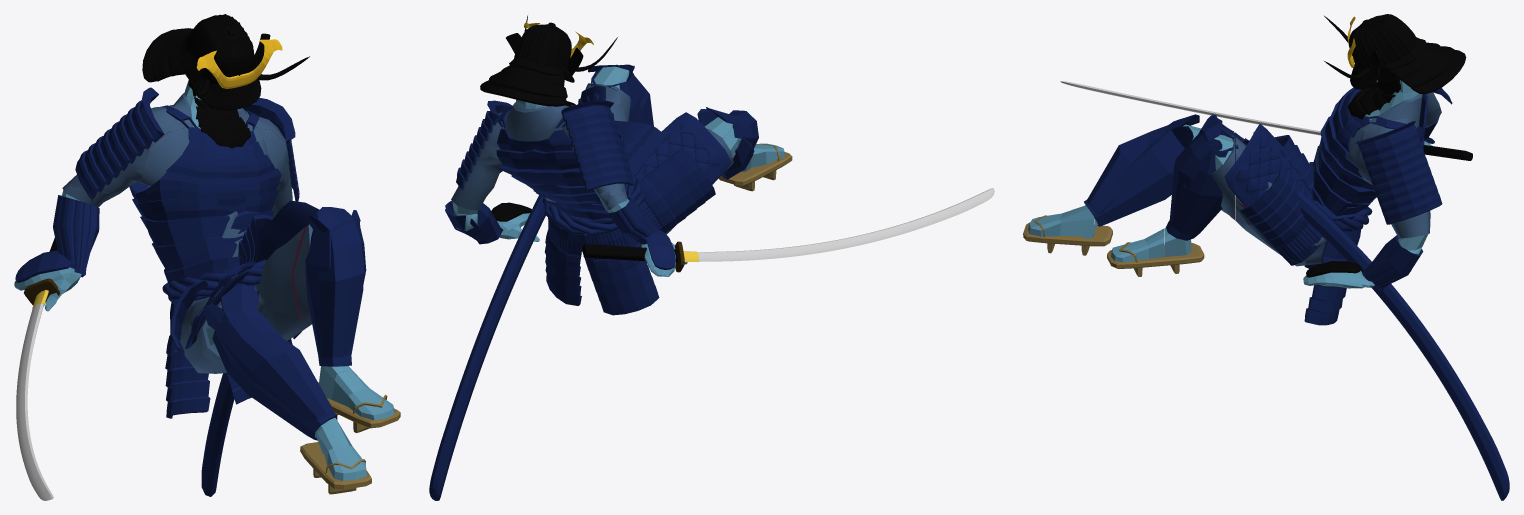
Rendered from Explosion_Ragdoll_Samurai_Sword.fbx.
The picture shows the model from 3 angles, left to right: view 1: azimuth 30°, elevation 25°; view 2: azimuth 150°, elevation 25°; view 3: azimuth 270°, elevation 25°; orthographic projection. The views are drawn at different scales.
Visible parts, largest first — view 1: Do, RSuneate, LSuneate, Kabuto, RSode, Katana, R Oda Gote, KusaziriRBack, BaseModel.024, Saya, BaseModel.042, LHaidate (+21 smaller); view 2: Do, Kabuto, Saya, Katana, RSode, KusaziriRBack, KusaziriRLeg, RHaidate, KusaziriLBack, BaseModel.009, BaseModel.020, RSuneate (+12 smaller); view 3: RSuneate, Saya, Kabuto, Do, LSode, LSuneate, KusaziriLLeg, LHaidate, KusaziriLBack, Katana, L Oda Gote, BaseModel.009 (+11 smaller).
Part boxes in pixels (left/top/right/bottom): Do: left=129, top=105, right=281, bottom=306; RSuneate: left=204, top=284, right=337, bottom=440; LSuneate: left=305, top=207, right=366, bottom=366; Kabuto: left=142, top=14, right=270, bottom=110; RSode: left=75, top=87, right=164, bottom=199; Katana: left=16, top=238, right=60, bottom=500; R Oda Gote: left=53, top=195, right=99, bottom=277; KusaziriRBack: left=165, top=302, right=210, bottom=418; BaseModel.024: left=254, top=236, right=302, bottom=317; Saya: left=201, top=373, right=234, bottom=496; BaseModel.042: left=315, top=417, right=366, bottom=480; LHaidate: left=255, top=200, right=319, bottom=262; Do: left=496, top=104, right=630, bottom=222; Kabuto: left=480, top=22, right=583, bottom=106; Saya: left=429, top=195, right=545, bottom=500; Katana: left=582, top=188, right=994, bottom=272; RSode: left=561, top=100, right=633, bottom=190; KusaziriRBack: left=579, top=228, right=659, bottom=315; KusaziriRLeg: left=639, top=148, right=715, bottom=245; RHaidate: left=635, top=112, right=731, bottom=183; KusaziriLBack: left=544, top=217, right=581, bottom=305; BaseModel.009: left=451, top=111, right=510, bottom=214; BaseModel.020: left=504, top=99, right=568, bottom=140; RSuneate: left=697, top=107, right=758, bottom=179; RSuneate: left=1084, top=114, right=1199, bottom=226; Saya: left=1298, top=191, right=1509, bottom=500; Kabuto: left=1348, top=14, right=1466, bottom=94; Do: left=1309, top=87, right=1427, bottom=237; LSode: left=1356, top=121, right=1442, bottom=224; LSuneate: left=1166, top=114, right=1238, bottom=240; KusaziriLLeg: left=1239, top=166, right=1321, bottom=265; LHaidate: left=1224, top=123, right=1312, bottom=263; KusaziriLBack: left=1304, top=229, right=1360, bottom=325; Katana: left=1060, top=81, right=1472, bottom=160; L Oda Gote: left=1362, top=235, right=1423, bottom=291; BaseModel.009: left=1352, top=119, right=1430, bottom=250.
Size of the model in its own units: 224 by 251 by 241.
